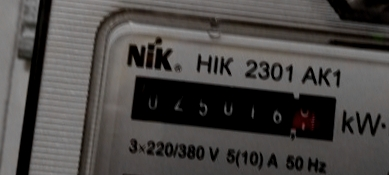0: (221, 92, 237, 117), (145, 88, 160, 111), (297, 96, 311, 118)
1: (245, 94, 259, 120), (297, 119, 307, 131)
2: (171, 88, 186, 112)
5: (196, 94, 209, 116)
6: (269, 100, 285, 126)
screen: (120, 63, 348, 149)
